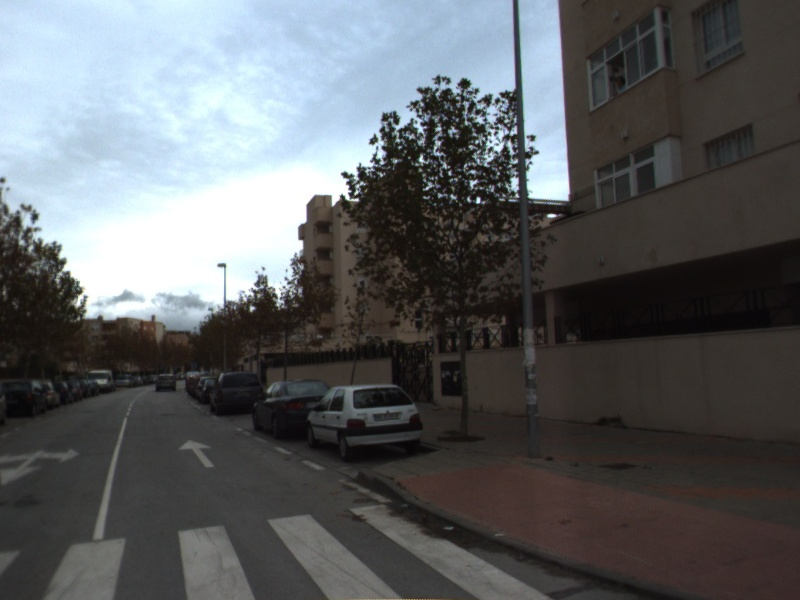STRAIGHT: (177, 437, 216, 469)
